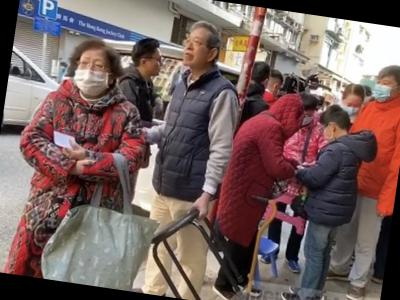with_mask: (72, 52, 112, 99), (372, 77, 398, 103), (343, 98, 366, 118)
without_mask: (180, 32, 211, 68), (144, 52, 166, 82)
